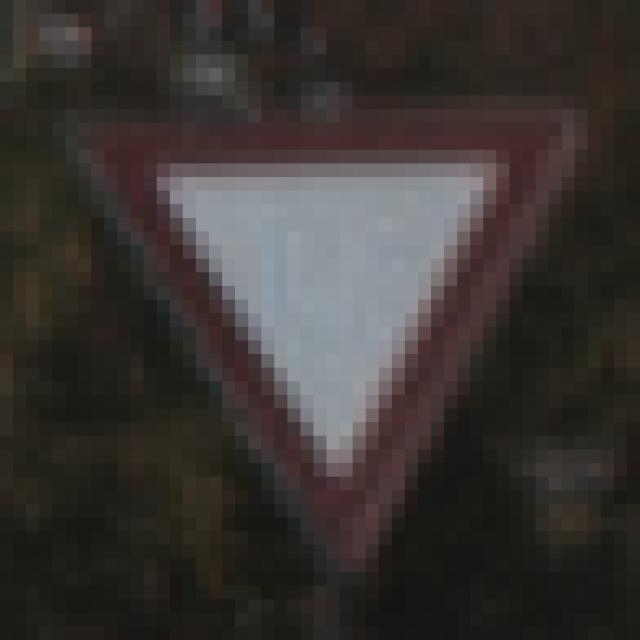Give Way: (79, 83, 576, 573)
